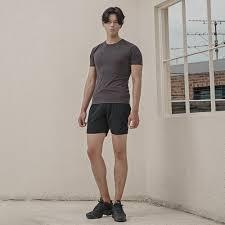Tshirt: (88, 39, 143, 103)
short: (86, 100, 132, 136)
